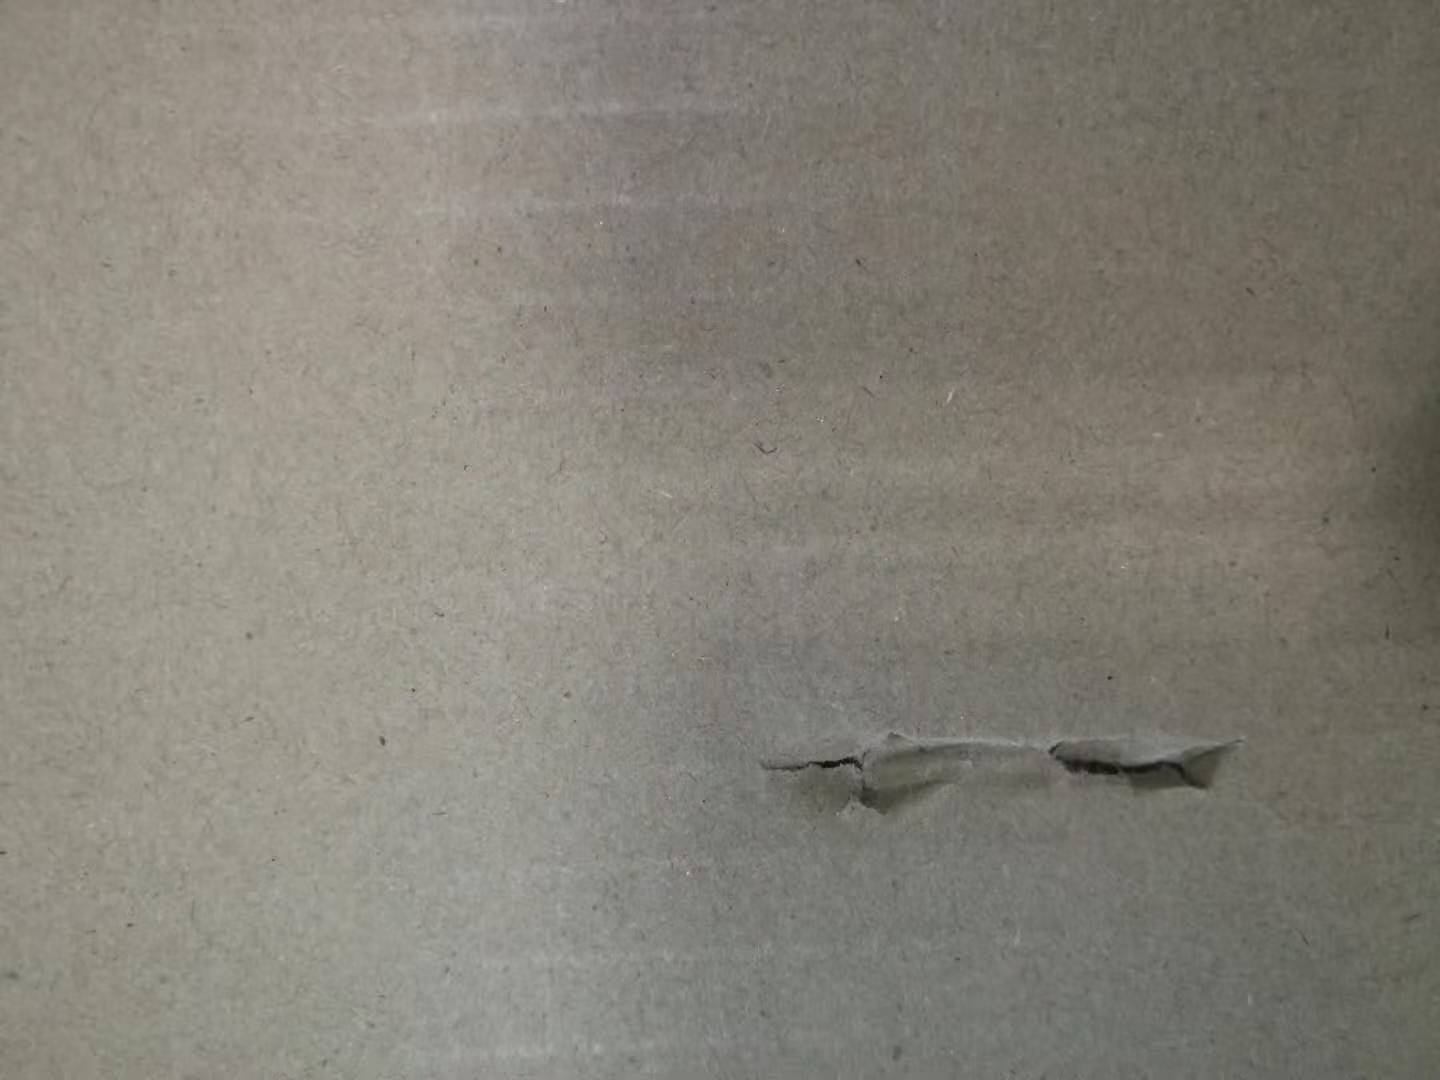defect: (728, 670, 1267, 864)
